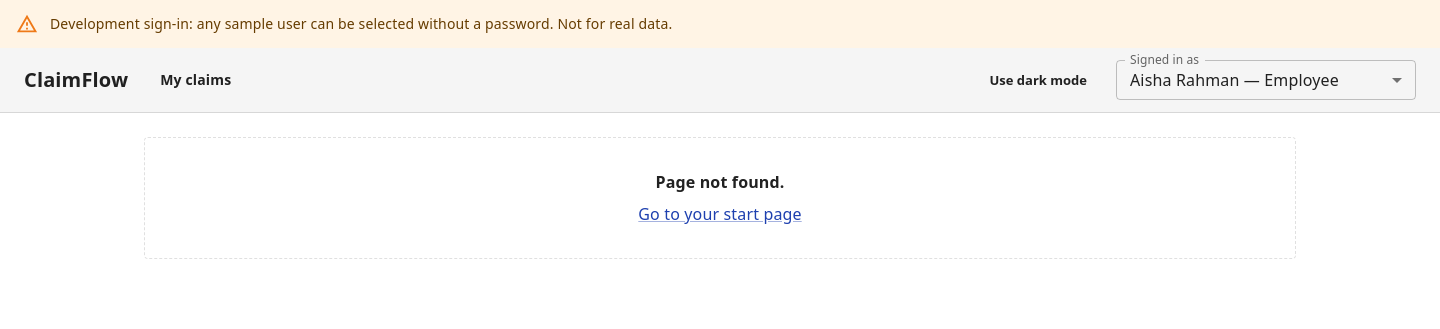
Scenario: start, loading, and empty states › explains an unknown page and links to the start page
The width and height of the screenshot is (1440, 329).
Check: the text "Page not found." is shown, box [656, 171, 784, 193]
Click the link "Go to your start page". click: (720, 214)
box: [638, 203, 802, 225]
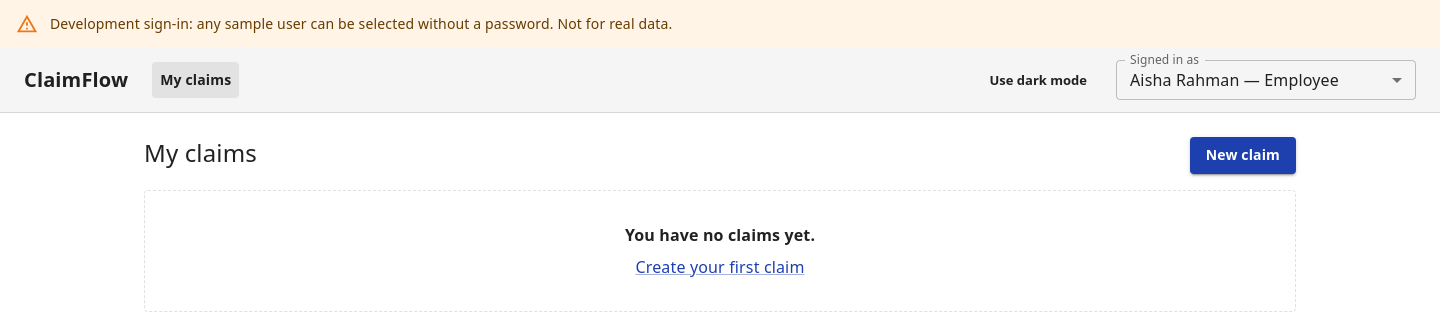
Check: the heading "My claims" is shown, box [144, 137, 257, 169]
